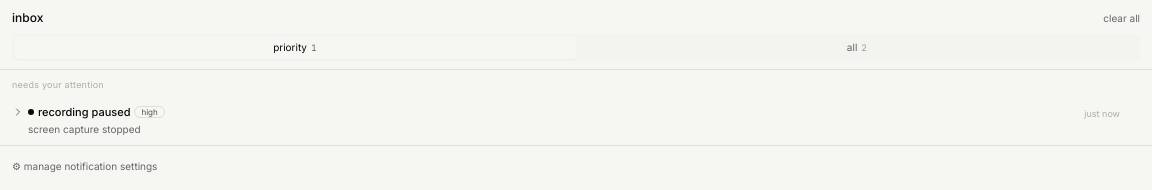
NotificationInboxPanel › clears both tabs from the priority tab without switching views
Expected: the button with test id "notification-bell-item-capture-stalled" is shown, [0,96,1151,145]
Click the button with test id "notification-bell-clear-all": x=1122, y=18 [1103,10,1140,26]
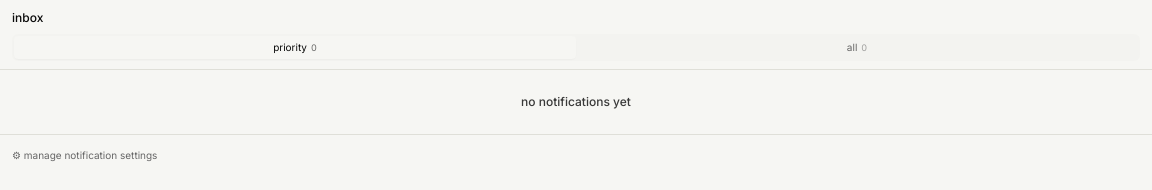
Expected: the tab with test id "notification-bell-view-all" shows "0", [576,36,1138,59]
